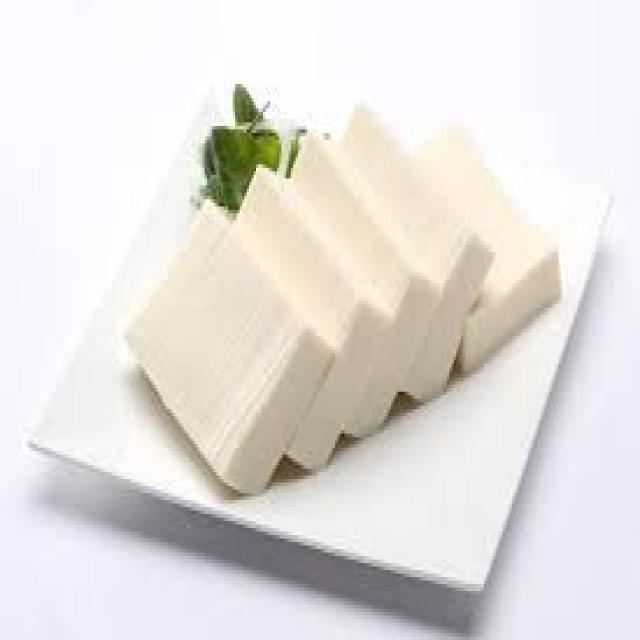tofu: (107, 206, 420, 511)
